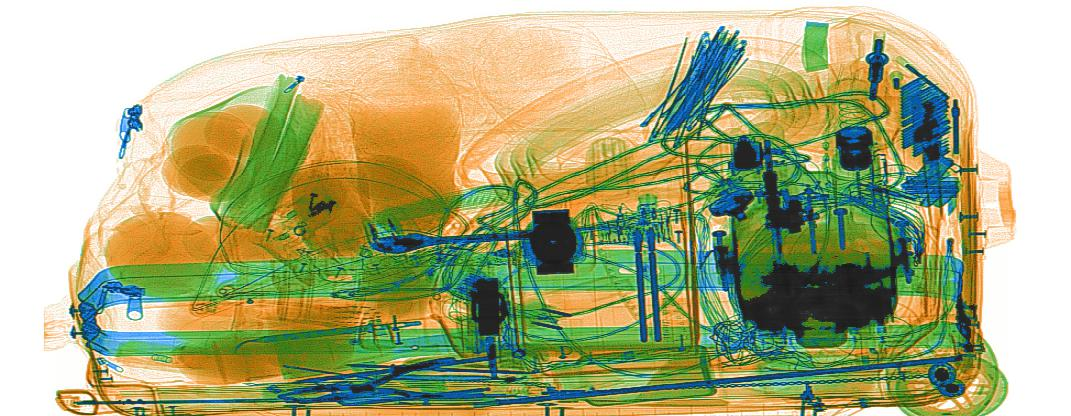plasticBottleWithaNozzle: (98, 292, 356, 386)
